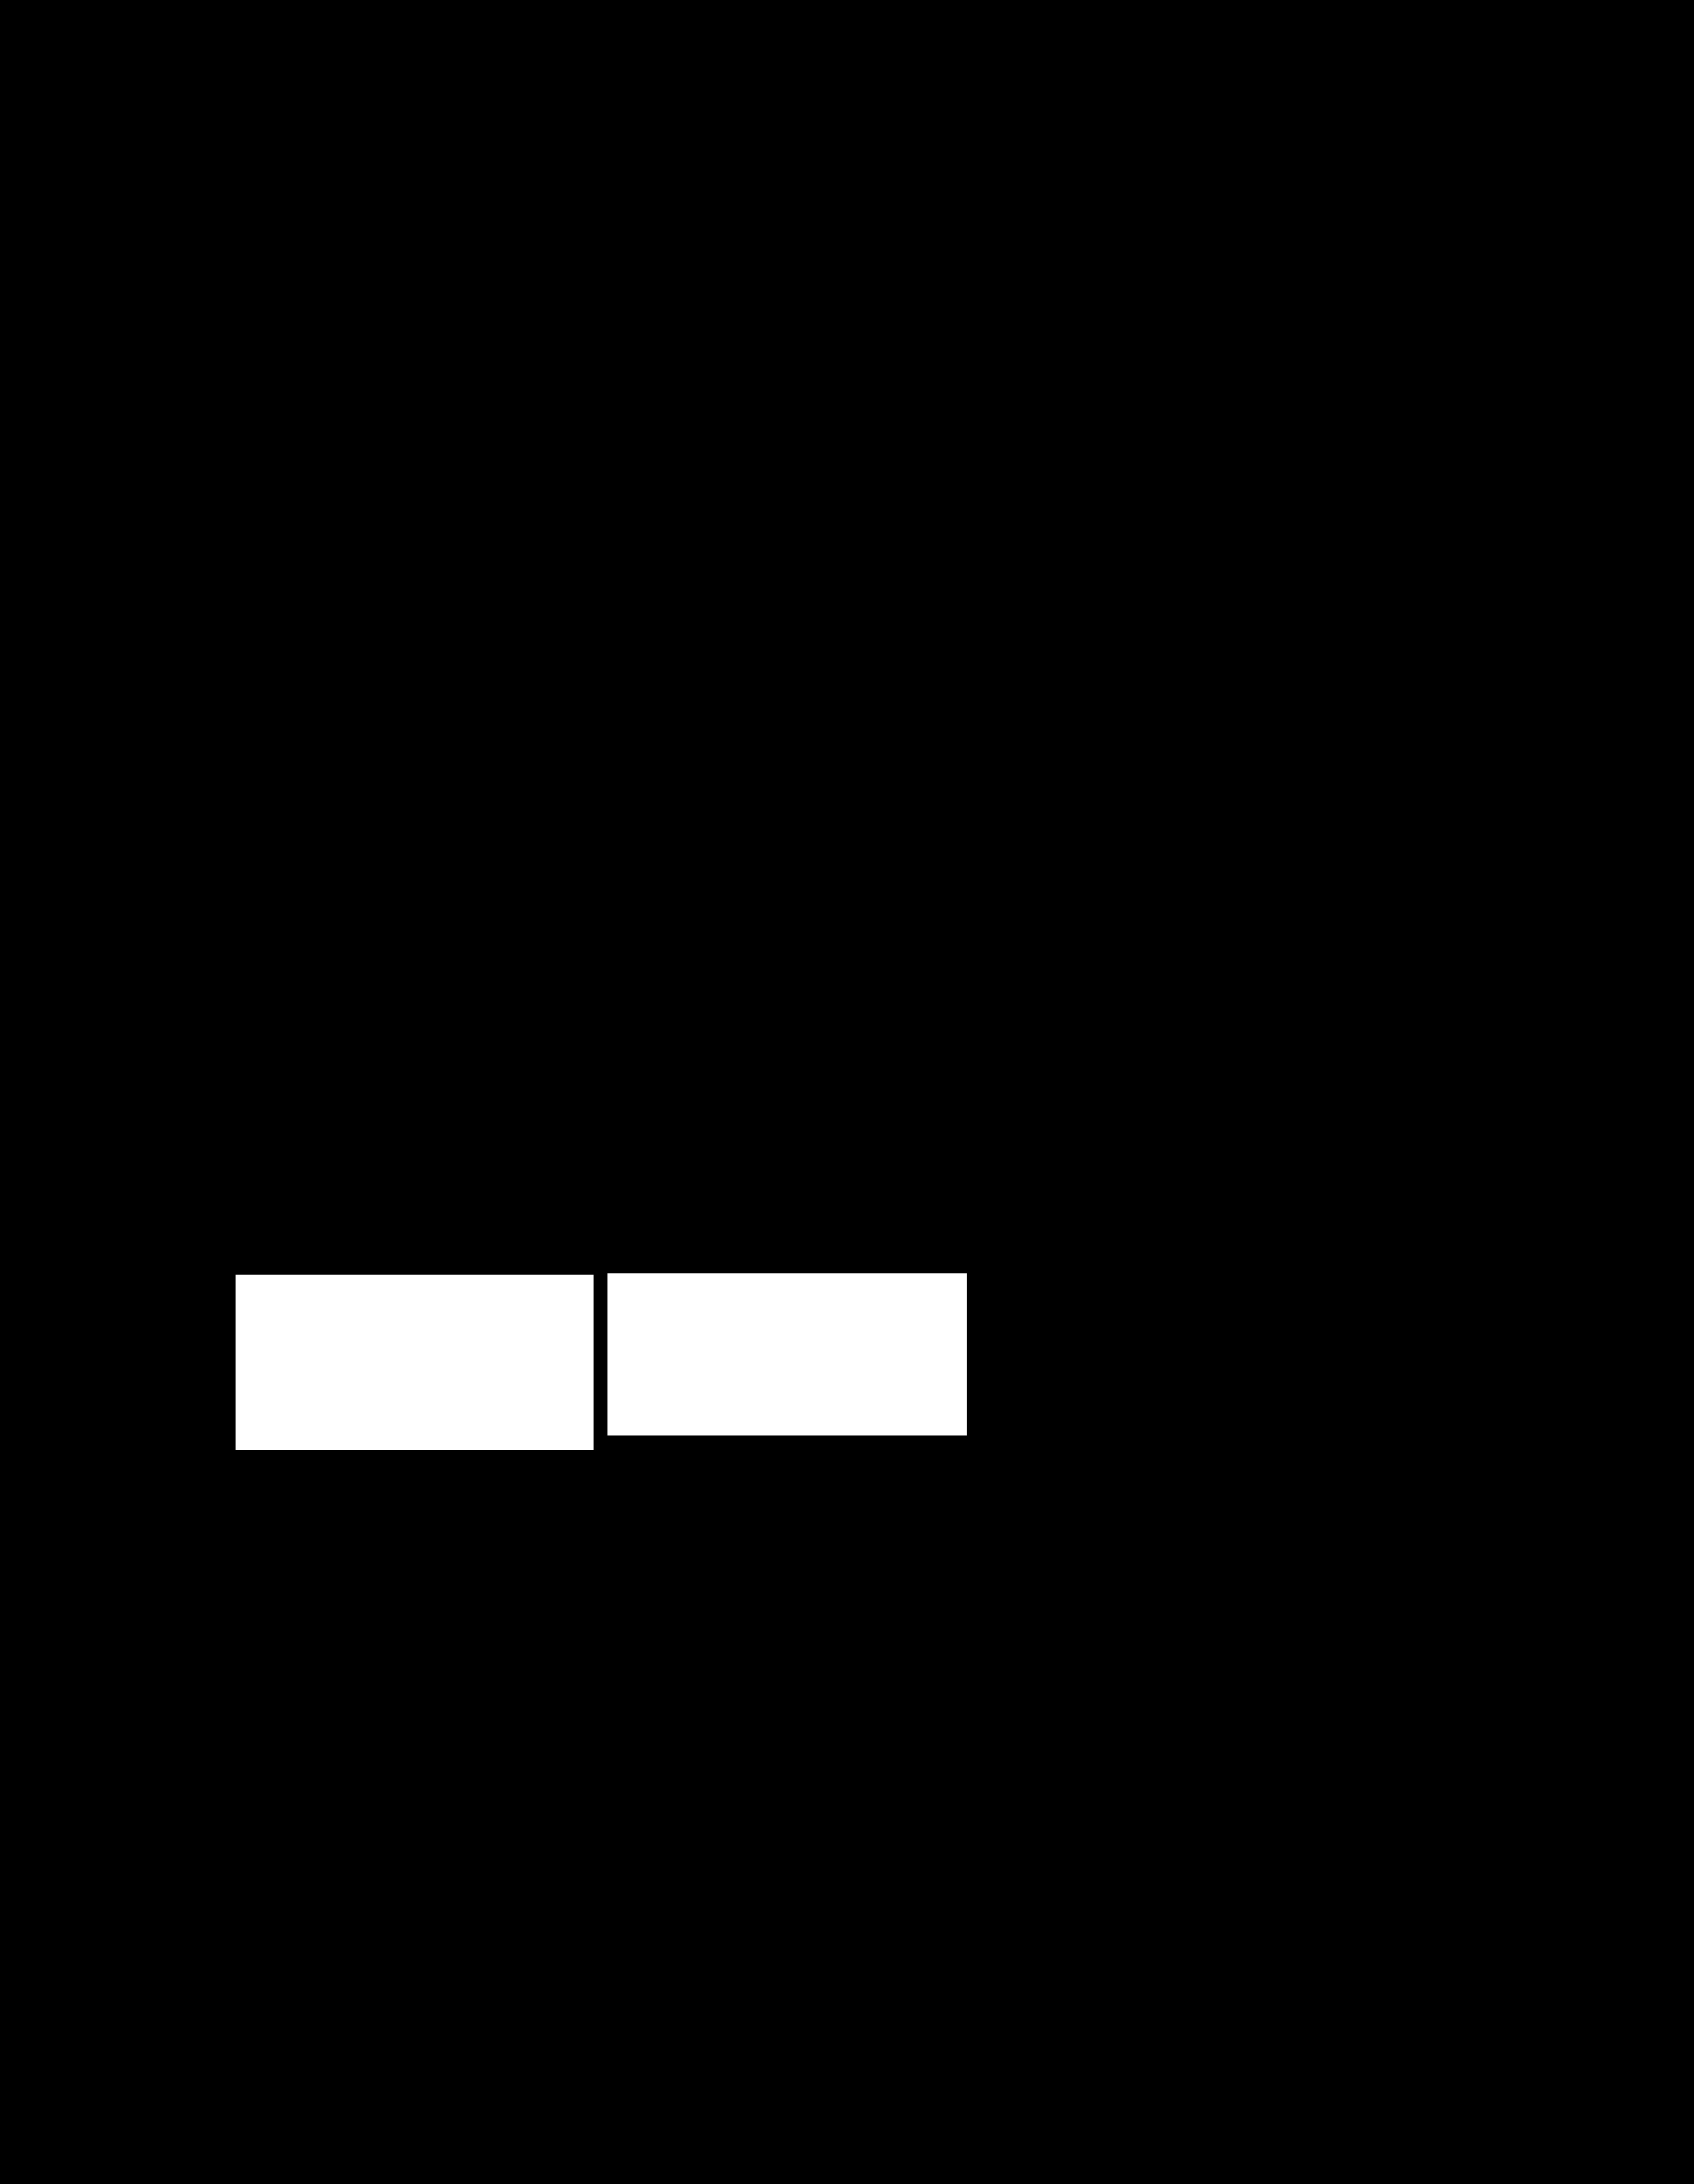table: (236, 1275, 594, 1450), (608, 1273, 966, 1434)
